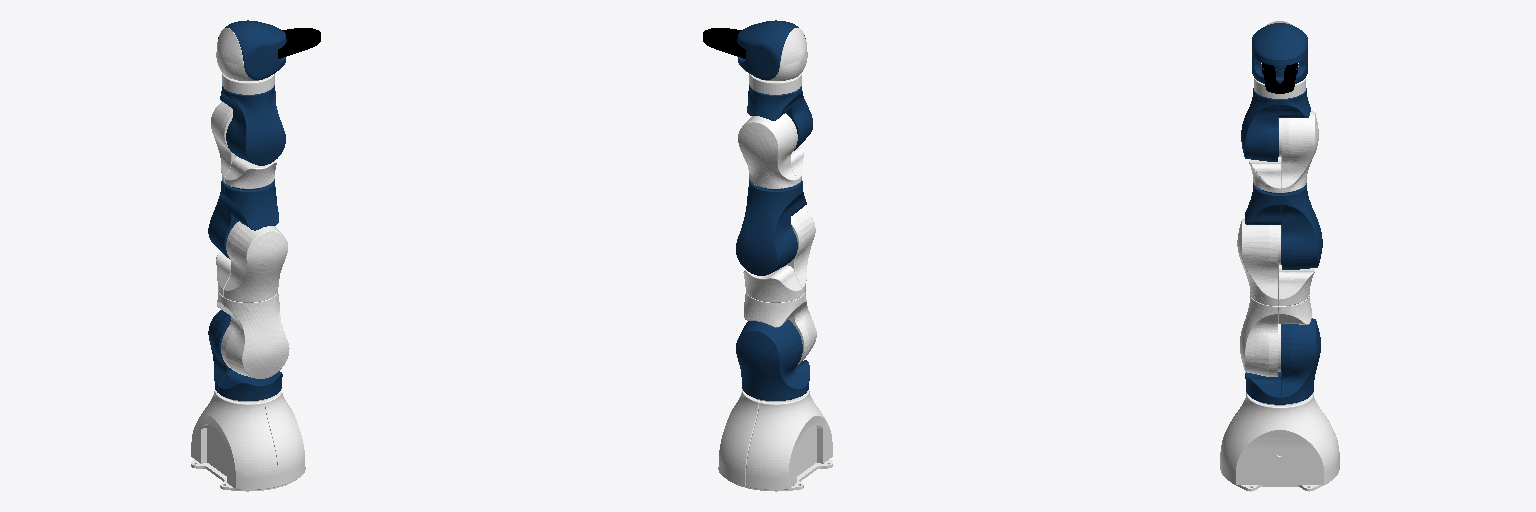
The robot description file, URDF, robot "p_rob":
<?xml version="1.0" ?>
<!-- =================================================================================== -->
<!-- |    This document was autogenerated by xacro from p_rob.urdf.xacro               | -->
<!-- |    EDITING THIS FILE BY HAND IS NOT RECOMMENDED                                 | -->
<!-- =================================================================================== -->
<robot name="p_rob" xmlns:xacro="http://www.ros.org/wiki/xacro">
  <material name="blue">
    <color rgba="0.12549019607843137 0.2784313725490196 0.43529411764705883 1"/>
  </material>
  <material name="black">
    <color rgba="0 0 0 1"/>
  </material>
  <material name="white">
    <color rgba="1 1 1 1"/>
  </material>
  <link name="base_link">
    <inertial>
      <origin rpy="0 0 0" xyz="8.71294630254049E-05 0.508451295685675 -0.00113740271757783"/>
      <mass value="31.8818528911811"/>
      <inertia ixx="4.65436888537887" ixy="-0.0338576061896482" ixz="3.29763186167614E-06" iyy="0.165544422845209" iyz="-0.00333281637307909" izz="4.60911765357231"/>
    </inertial>
    <visual>
      <geometry>
        <mesh filename="package://p_rob_description/meshes/p_base.STL"/>
      </geometry>
      <material name="white"/>
    </visual>
    <collision>
      <geometry>
        <mesh filename="package://p_rob_description/meshes/p_base.STL"/>
      </geometry>
    </collision>
  </link>
  <joint name="p_rob_joint1" type="revolute">
    <origin xyz="0 0 0.212"/>
    <parent link="base_link"/>
    <child link="p_rob_link12"/>
    <limit effort="1.09" lower="-2.96705972839" upper="2.96705972839" velocity="0.829031394697"/>
    <axis xyz="0 0 1"/>
  </joint>
  <link name="p_rob_link12">
    <inertial>
      <origin rpy="0 0 0" xyz="8.71294630254049E-05 0.277951295685675 -0.00113740271757783"/>
      <mass value="3.652"/>
      <inertia ixx="0.06656" ixy="1e-05" ixz="1e-05" iyy="0.0661" iyz="0.00952" izz="0.0076"/>
    </inertial>
    <visual>
      <geometry>
        <mesh filename="package://p_arm_description/meshes/p_rob_2R/link12.STL"/>
      </geometry>
      <material name="blue"/>
    </visual>
    <collision>
      <geometry>
        <mesh filename="package://p_arm_description/meshes/p_rob_2R/link12.STL"/>
      </geometry>
    </collision>
  </link>
  <joint name="p_rob_joint2" type="revolute">
    <origin xyz="0 0 0.1505"/>
    <parent link="p_rob_link12"/>
    <child link="p_rob_link23"/>
    <limit effort="1.09" lower="-1.91986217719" upper="1.91986217719" velocity="0.829031394697"/>
    <axis xyz="0 1 0"/>
  </joint>
  <link name="p_rob_link23">
    <inertial>
      <origin xyz="8.71294630254052E-05 0.000951295697065868 -0.00113740271757783"/>
      <mass value="3.52"/>
      <inertia ixx="0.18406" ixy="2e-05" ixz="-8e-05" iyy="0.18142" iyz="0.01932" izz="0.00841"/>
    </inertial>
    <visual>
      <geometry>
        <mesh filename="package://p_arm_description/meshes/p_rob_2R/link23.STL"/>
      </geometry>
      <material name="white"/>
    </visual>
    <collision>
      <geometry>
        <mesh filename="package://p_arm_description/meshes/p_rob_2R/link23.STL"/>
      </geometry>
    </collision>
  </link>
  <joint name="p_rob_joint3" type="revolute">
    <origin xyz="0 0 0.29"/>
    <parent link="p_rob_link23"/>
    <child link="p_rob_link34"/>
    <limit effort="1.09" lower="-2.00712863979" upper="2.00712863979" velocity="0.829031394697"/>
    <axis xyz="0 1 0"/>
  </joint>
  <link name="p_rob_link34">
    <inertial>
      <origin rpy="0 0 0" xyz="8.71294630254052E-05 -0.313548704302934 -0.00113740271757783"/>
      <mass value="1.626"/>
      <inertia ixx="0.02372" ixy="-2e-05" ixz="4e-05" iyy="0.02243" iyz="0.00024" izz="0.0343"/>
    </inertial>
    <visual>
      <geometry>
        <mesh filename="package://p_arm_description/meshes/p_rob_2R/link34.STL"/>
      </geometry>
      <material name="blue"/>
    </visual>
    <collision>
      <geometry>
        <mesh filename="package://p_arm_description/meshes/p_rob_2R/link34.STL"/>
      </geometry>
    </collision>
  </link>
  <joint name="p_rob_joint4" type="revolute">
    <origin xyz="0 0 0.1645"/>
    <parent link="p_rob_link34"/>
    <child link="p_rob_link45"/>
    <limit effort="0.3275" lower="-2.96705972839" upper="2.96705972839" velocity="0.829031394697"/>
    <axis xyz="0 0 1"/>
  </joint>
  <link name="p_rob_link45">
    <inertial>
      <origin rpy="0 0 0" xyz="8.71294630254052E-05 -0.313548704302934 -0.00113740271757783"/>
      <mass value="1.516"/>
      <inertia ixx="0.02488" ixy="2e-05" ixz="3e-05" iyy="0.02409" iyz="0.00398" izz="0.00272"/>
    </inertial>
    <visual>
      <geometry>
        <mesh filename="package://p_arm_description/meshes/p_rob_2R/link45.STL"/>
      </geometry>
      <material name="white"/>
    </visual>
    <collision>
      <geometry>
        <mesh filename="package://p_arm_description/meshes/p_rob_2R/link45.STL"/>
      </geometry>
    </collision>
  </link>
  <joint name="p_rob_joint5" type="revolute">
    <origin xyz="0 0 0.1455"/>
    <parent link="p_rob_link45"/>
    <child link="p_rob_link56"/>
    <limit effort="0.3275" lower="-2.00712863979" upper="2.00712863979" velocity="0.829031394697"/>
    <axis xyz="0 1 0"/>
  </joint>
  <link name="p_rob_link56">
    <inertial>
      <origin xyz="-8.71294630254049E-05 -0.588048704302934 0.00113740271757783"/>
      <mass value="1.417"/>
      <inertia ixx="0.01351" ixy="-2e-05" ixz="-3e-05" iyy="0.01261" iyz="-0.00012" izz="0.00274"/>
    </inertial>
    <visual>
      <geometry>
        <mesh filename="package://p_arm_description/meshes/p_rob_2R/link56.STL"/>
      </geometry>
      <material name="blue"/>
    </visual>
    <collision>
      <geometry>
        <mesh filename="package://p_arm_description/meshes/p_rob_2R/link56.STL"/>
      </geometry>
    </collision>
  </link>
  <joint name="p_rob_joint6" type="revolute">
    <origin xyz="0 0 0.129"/>
    <parent link="p_rob_link56"/>
    <child link="p_rob_link6G"/>
    <limit effort="0.179324" lower="-2.96705972839" upper="2.96705972839" velocity="1.65806278939"/>
    <axis xyz="0 0 1"/>
  </joint>
  <link name="p_rob_link6G">
    <inertial>
      <origin xyz="-0.00113740271757783 0.588048704302934 8.7129463025477E-05"/>
      <mass value="0.435"/>
      <inertia ixx="0.00079" ixy="0.0" ixz="0.0" iyy="0.00086" iyz="-1e-05" izz="0.00084"/>
    </inertial>
    <visual>
      <geometry>
        <mesh filename="package://p_arm_description/meshes/p_rob_2R/link6G.STL"/>
      </geometry>
      <material name="white"/>
    </visual>
    <collision>
      <geometry>
        <mesh filename="package://p_arm_description/meshes/p_rob_2R/link6G.STL"/>
      </geometry>
    </collision>
  </link>
  <joint name="p_rob_gripper_interface_joint" type="fixed">
    <origin xyz="0 0 0.046"/>
    <parent link="p_rob_link6G"/>
    <child link="p_rob_gripper_interface_link"/>
  </joint>
  <link name="p_rob_gripper_interface_link"/>
  <joint name="p_rob_back_cover_joint" type="fixed">
    <parent link="p_rob_gripper_interface_link"/>
    <child link="p_rob_back_cover"/>
  </joint>
  <link name="p_rob_back_cover">
    <inertial>
      <origin xyz="2.24196111270369E-06 -0.00408460946644196 -0.0510660065280277"/>
      <mass value="0.82454352978473"/>
      <inertia ixx="0.00151927417232363" ixy="-3.02654547820246E-07" ixz="-4.4543064624827E-08" iyy="0.00163894166884312" iyz="-2.0883019834409E-05" izz="0.00153211830480003"/>
    </inertial>
    <visual>
      <geometry>
        <mesh filename="package://p_grip_description/meshes/p_grip_2F/back_cover.STL"/>
      </geometry>
      <material name="white"/>
    </visual>
    <collision>
      <geometry>
        <mesh filename="package://p_grip_description/meshes/p_grip_2F/back_cover.STL"/>
      </geometry>
    </collision>
  </link>
  <!-- Main body of the gripper. -->
  <joint name="p_rob_p_grip_connector" type="fixed">
    <origin rpy="0 0 0" xyz="0 0 0"/>
    <parent link="p_rob_gripper_interface_link"/>
    <child link="p_rob_gripper_link"/>
  </joint>
  <link name="p_rob_gripper_link">
    <inertial>
      <origin xyz="2.24196111270369E-06 -0.00408460946644196 -0.0510660065280277"/>
      <mass value="0.82454352978473"/>
      <inertia ixx="0.00151927417232363" ixy="-3.02654547820246E-07" ixz="-4.4543064624827E-08" iyy="0.00163894166884312" iyz="-2.0883019834409E-05" izz="0.00153211830480003"/>
    </inertial>
    <visual>
      <geometry>
        <mesh filename="package://p_grip_description/meshes/p_grip_2F/p_grip.STL"/>
      </geometry>
      <material name="blue"/>
    </visual>
    <collision>
      <geometry>
        <mesh filename="package://p_grip_description/meshes/p_grip_2F/p_grip.STL"/>
      </geometry>
    </collision>
  </link>
  <!-- The left finger can be actuated via ROS. -->
  <joint name="p_rob_gripper_joint" type="revolute">
    <origin rpy="0 0 0" xyz="0.0645 0 0.052"/>
    <parent link="p_rob_gripper_link"/>
    <child link="p_rob_left_finger"/>
    <limit effort="0.11997" lower="0.0" upper="0.523598775598" velocity="1.0471975512"/>
    <axis xyz="0 0 1"/>
  </joint>
  <link name="p_rob_left_finger">
    <visual>
      <origin rpy="0 0 0"/>
      <geometry>
        <mesh filename="package://p_grip_description/meshes/p_grip_2F/finger.STL"/>
      </geometry>
      <material name="black"/>
    </visual>
    <collision>
      <origin rpy="0 0 0"/>
      <geometry>
        <mesh filename="package://p_grip_description/meshes/p_grip_2F/finger.STL"/>
      </geometry>
    </collision>
  </link>
  <!-- The right finger simply mirrors the left one. -->
  <joint name="p_rob_passive_gripper_joint" type="revolute">
    <mimic joint="p_rob_gripper_joint" multiplier="-1" offset="0"/>
    <origin rpy="0 0 0" xyz="0.0645 0 0.052"/>
    <parent link="p_rob_gripper_link"/>
    <child link="p_rob_right_finger"/>
    <limit effort="1000.0" lower="0" upper="0.52" velocity="170"/>
    <axis xyz="0 0 1"/>
  </joint>
  <link name="p_rob_right_finger">
    <visual>
      <origin rpy="3.14159265359 0 0"/>
      <geometry>
        <mesh filename="package://p_grip_description/meshes/p_grip_2F/finger.STL"/>
      </geometry>
      <material name="black"/>
    </visual>
    <collision>
      <origin rpy="3.14159265359 0 0"/>
      <geometry>
        <mesh filename="package://p_grip_description/meshes/p_grip_2F/finger.STL"/>
      </geometry>
    </collision>
  </link>
  <!-- The tool center point is used for kinematics and path planning. -->
  <joint name="p_rob_tcp_joint" type="fixed">
    <origin rpy="0 0 0" xyz="0.189 0 0.052"/>
    <parent link="p_rob_gripper_link"/>
    <child link="p_rob_tcp_link"/>
  </joint>
  <link name="p_rob_tcp_link"/>
</robot>

--- Render facts (derived) ---
3 views of the same robot in one strip: view 1: azimuth 30°, elevation 25°; view 2: azimuth 150°, elevation 25°; view 3: azimuth 270°, elevation 25° (orthographic).
Model p_rob with 13 links and 12 joints (8 revolute, 4 fixed), rooted at base_link, posed all joints at 0.
Visible links, largest first — view 1: p_rob_link23, base_link, p_rob_link56, p_rob_link34, p_rob_link12, p_rob_gripper_link, p_rob_link45, p_rob_back_cover, p_rob_link6G, p_rob_right_finger; view 2: base_link, p_rob_link12, p_rob_link23, p_rob_link34, p_rob_link45, p_rob_gripper_link, p_rob_link56, p_rob_back_cover, p_rob_link6G, p_rob_left_finger; view 3: base_link, p_rob_link23, p_rob_link34, p_rob_link12, p_rob_link45, p_rob_link56, p_rob_gripper_link.
Boxes of the visible links, left/top/right/bottom form: p_rob_link23: left=216, top=221, right=289, bottom=378; base_link: left=191, top=389, right=305, bottom=491; p_rob_link56: left=220, top=85, right=285, bottom=165; p_rob_link34: left=208, top=179, right=278, bottom=258; p_rob_link12: left=208, top=310, right=282, bottom=400; p_rob_gripper_link: left=218, top=20, right=286, bottom=79; p_rob_link45: left=211, top=102, right=276, bottom=188; p_rob_back_cover: left=216, top=28, right=258, bottom=80; p_rob_link6G: left=222, top=73, right=274, bottom=94; p_rob_right_finger: left=278, top=31, right=320, bottom=58; base_link: left=718, top=389, right=832, bottom=491; p_rob_link12: left=736, top=320, right=809, bottom=400; p_rob_link23: left=743, top=208, right=816, bottom=364; p_rob_link34: left=736, top=179, right=806, bottom=275; p_rob_link45: left=738, top=113, right=803, bottom=188; p_rob_gripper_link: left=737, top=20, right=805, bottom=79; p_rob_link56: left=747, top=85, right=812, bottom=150; p_rob_back_cover: left=765, top=28, right=807, bottom=80; p_rob_link6G: left=749, top=73, right=801, bottom=94; p_rob_left_finger: left=703, top=31, right=745, bottom=58; base_link: left=1220, top=392, right=1339, bottom=491; p_rob_link23: left=1237, top=219, right=1314, bottom=376; p_rob_link34: left=1245, top=183, right=1322, bottom=269; p_rob_link12: left=1245, top=318, right=1320, bottom=404; p_rob_link45: left=1249, top=111, right=1318, bottom=192; p_rob_link56: left=1241, top=88, right=1310, bottom=161; p_rob_gripper_link: left=1252, top=23, right=1307, bottom=83.
Size in the robot's own frame: 0.3401 by 0.31 by 1.27 metres.
Meshes: 10 distinct files referenced, 11 mesh visuals loaded (10 binary STL).